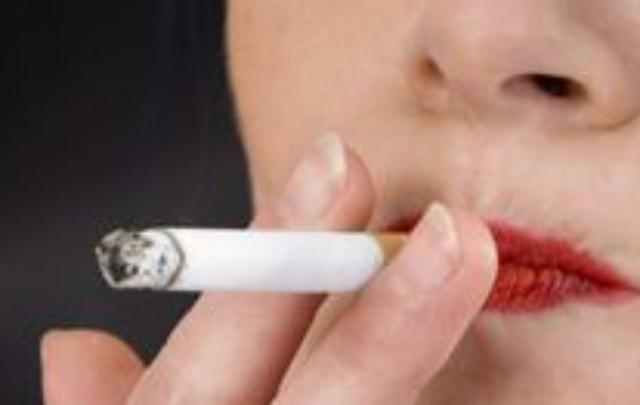SafeDriving: (476, 28, 624, 130)
Smoking: (90, 216, 408, 294)
